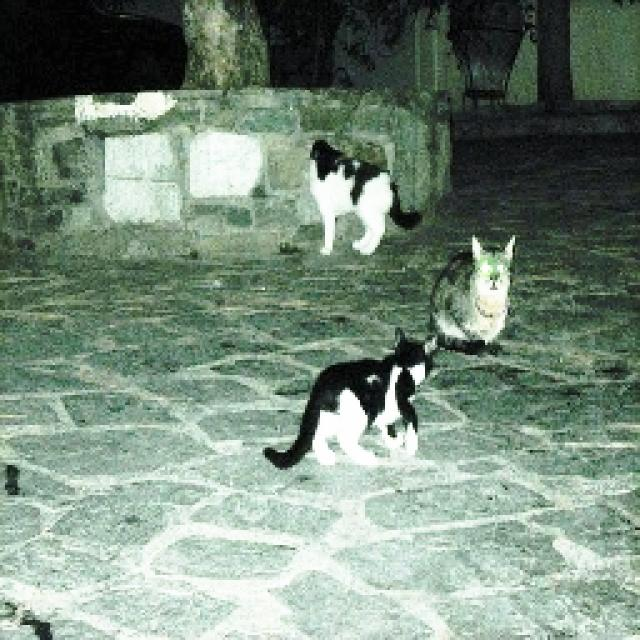cat: (260, 324, 440, 476), (305, 135, 426, 257), (428, 238, 518, 360)
